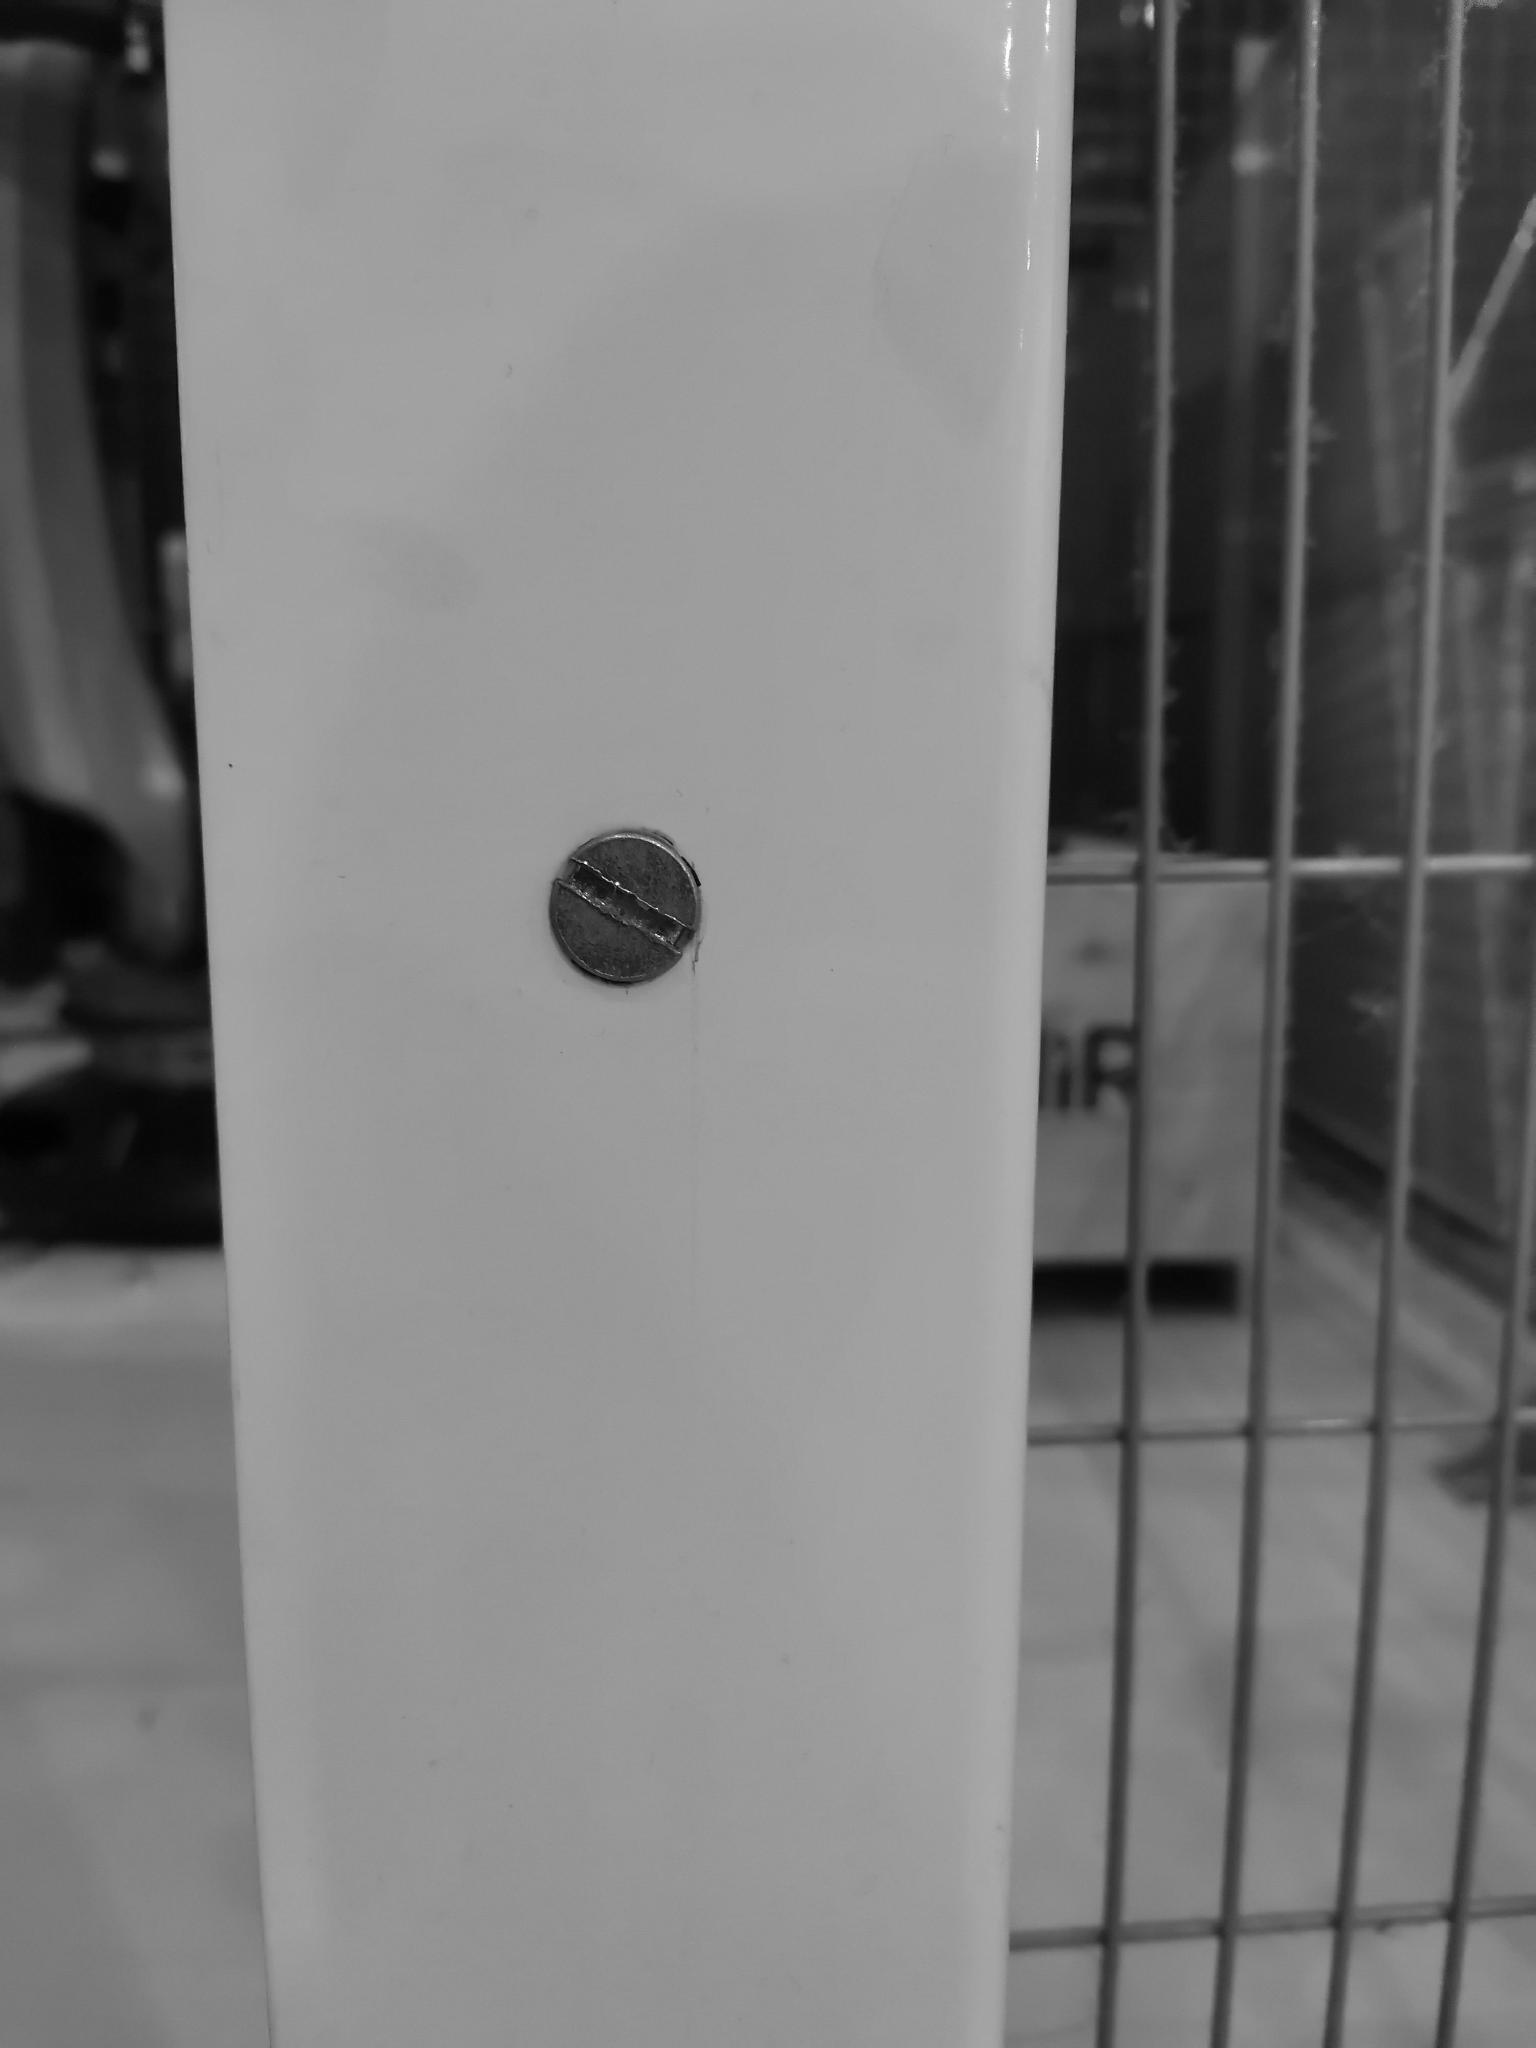screw: (520, 818, 715, 1005)
